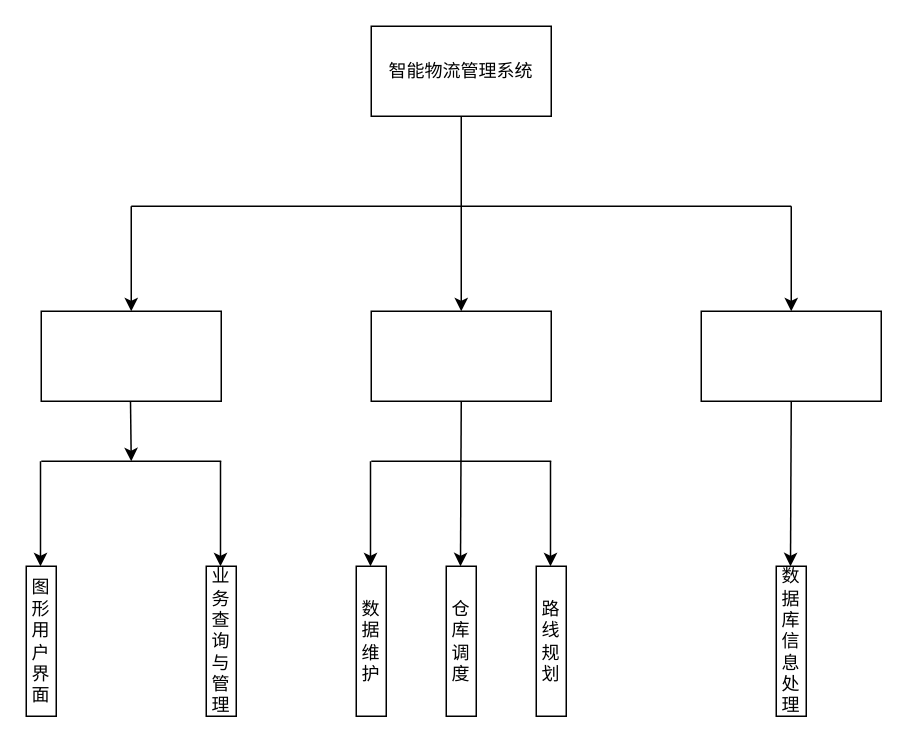
The diagram is 908 pixels wide and 743 high, and some of its shapes have lost their labels. Here are the shapes that lost their labels. From the top down, the centre of each, then its label:
At pixel 130 355: "表示层服务".
At pixel 460 355: "应用逻辑服务".
At pixel 790 355: "数据存储服务".
